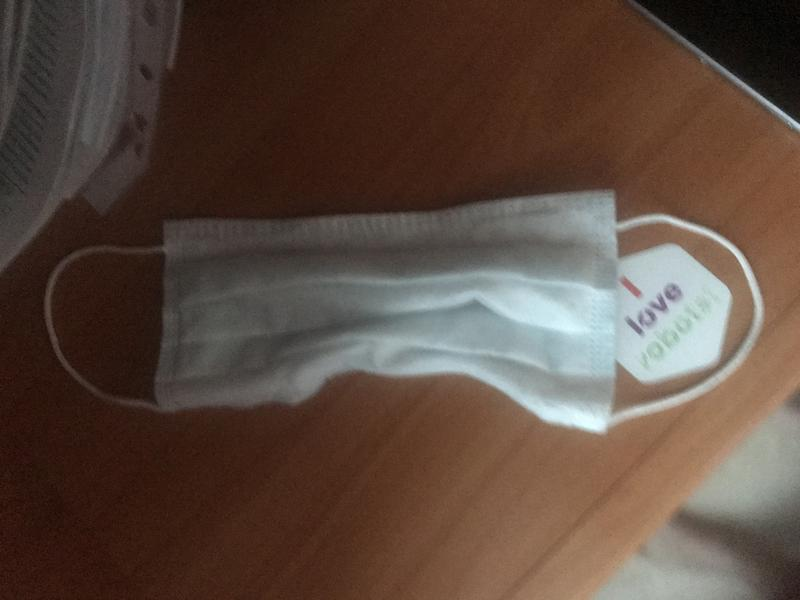medical_mask: (45, 192, 766, 436)
